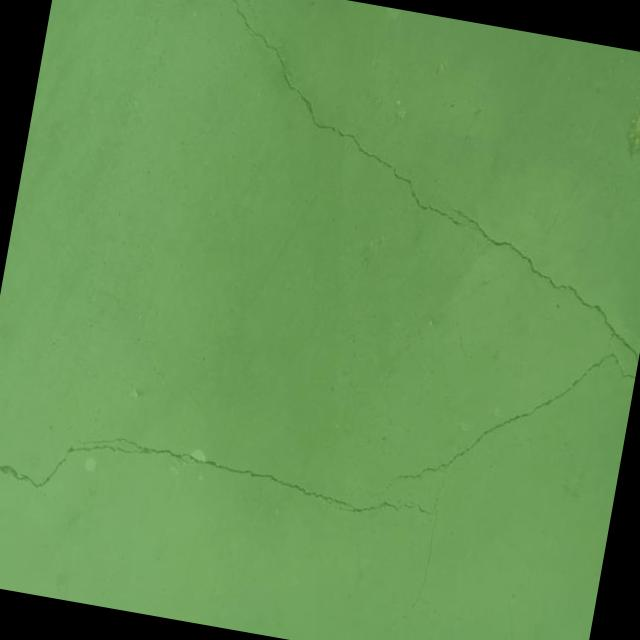crack: (130, 0, 640, 537), (0, 411, 433, 556), (402, 472, 448, 624), (230, 0, 263, 23), (375, 615, 397, 640)
